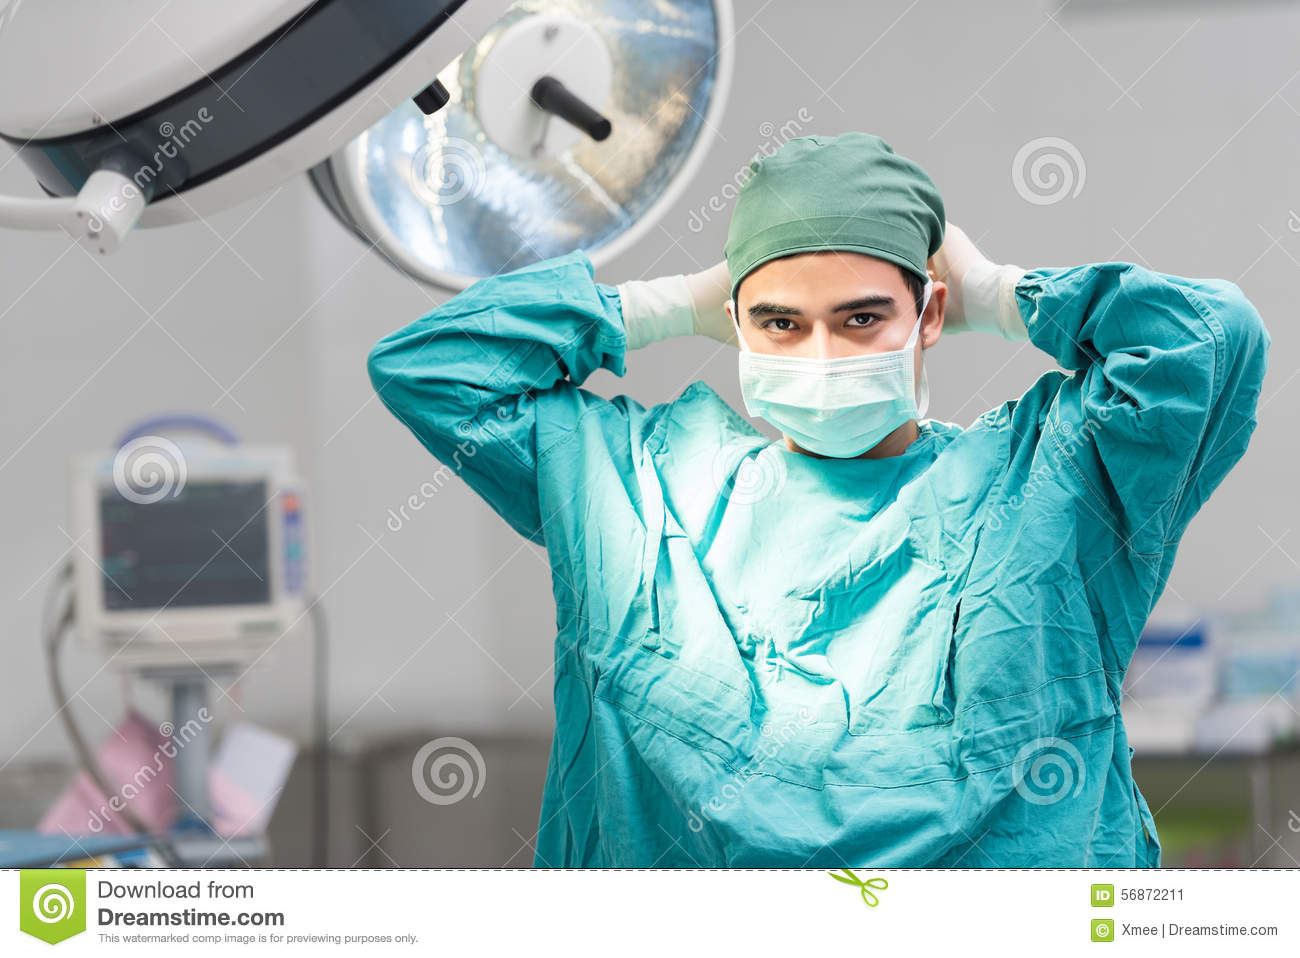mask: (733, 339, 923, 470)
